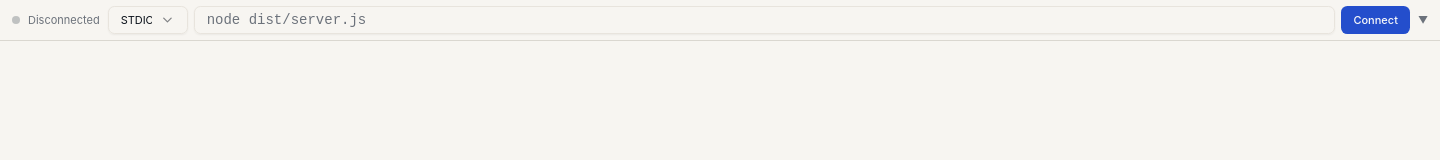
Test: ConnectionPanel › shows validation errors for invalid stdio commands
Click the button "Connect". click: x=1376, y=20
box: [1341, 6, 1410, 34]
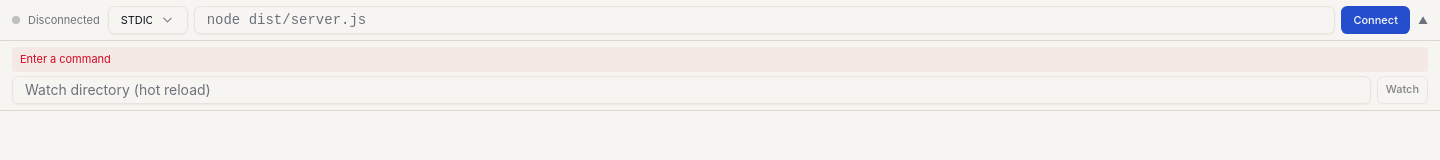
Expected: the text "Enter a command" is shown, [12, 47, 1428, 72]
Type "node \"server.js" into the field with placeholder "node dist/server.js". click: x=764, y=20
box: [194, 6, 1335, 34]
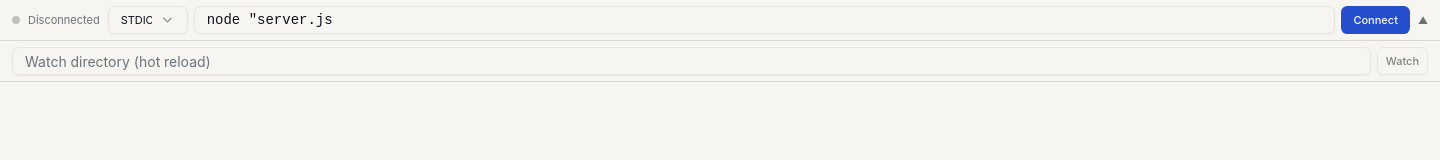
Click the button "Connect". click: x=1376, y=20
box: [1341, 6, 1410, 34]
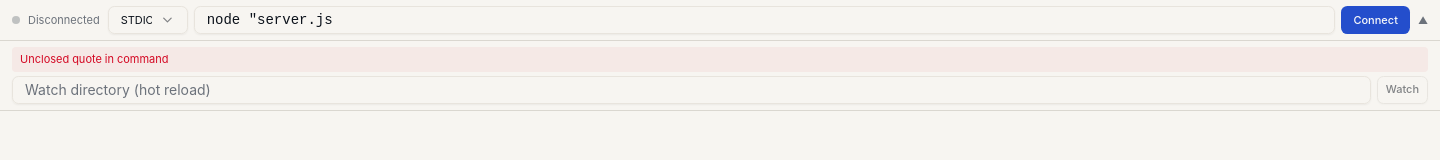
Expected: the text "Unclosed quote in command" is shown, [12, 47, 1428, 72]
